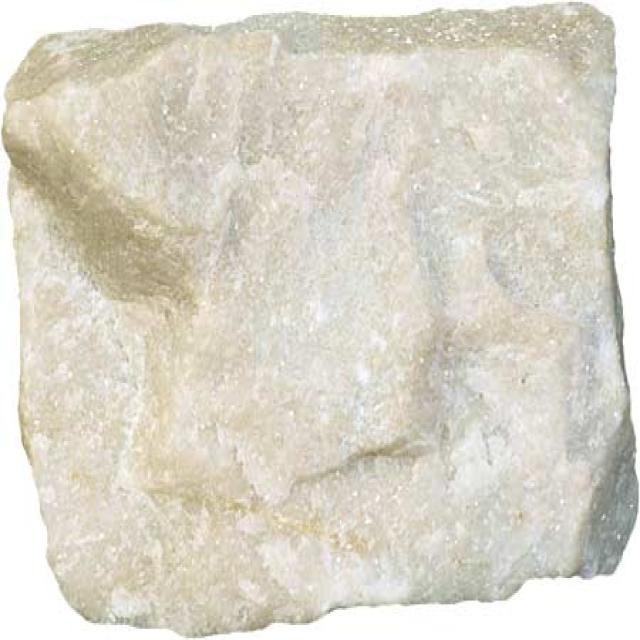Metamorphic: (3, 25, 634, 632)
